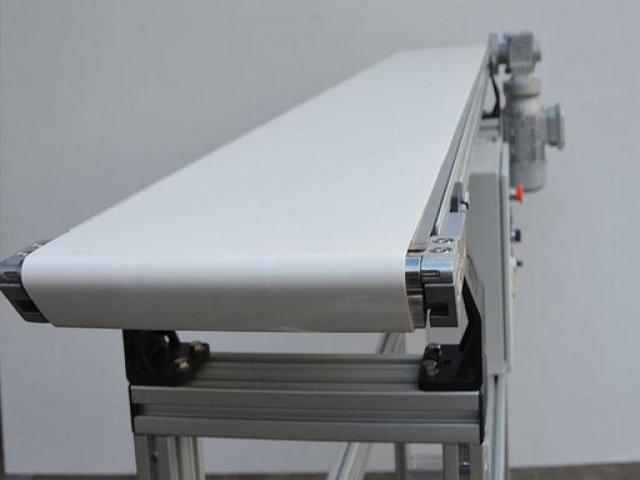conveyor: (26, 40, 518, 336)
